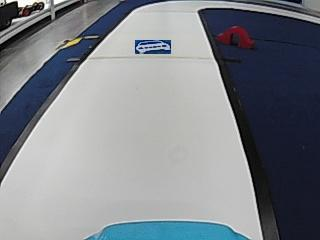bridge: (217, 25, 253, 47)
